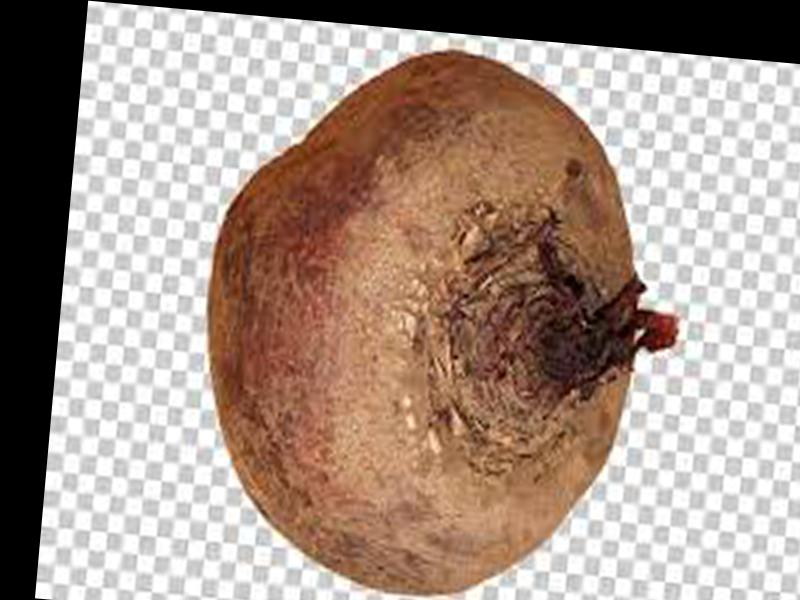Beet: (186, 36, 701, 600)
